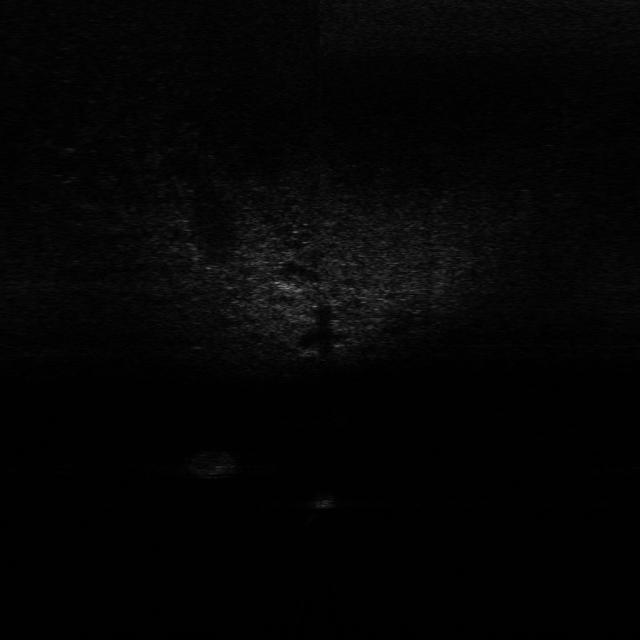circle cage: (186, 446, 242, 484)
cylinder: (302, 488, 332, 523)
